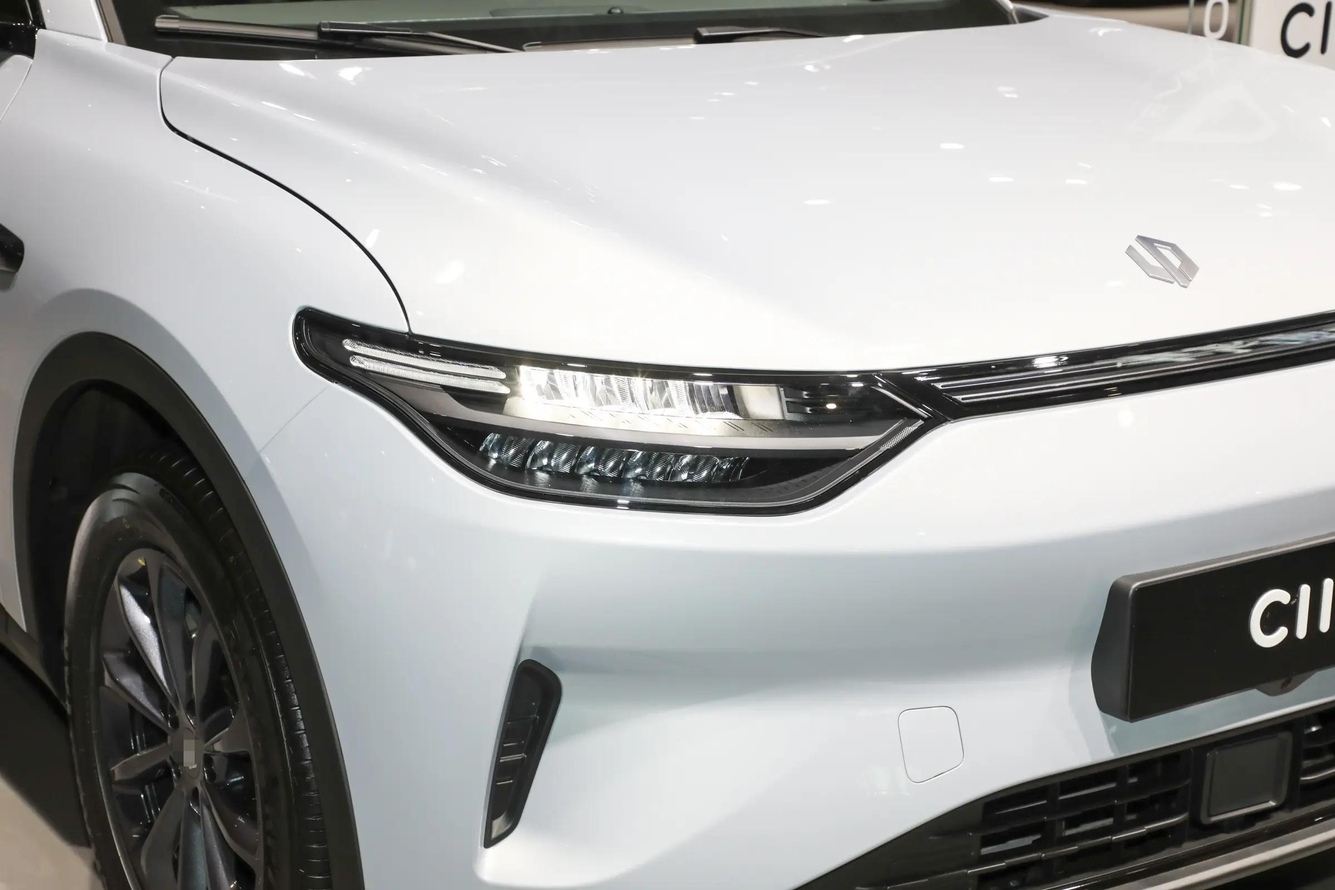LEAPMOTOR: (1124, 235, 1200, 290)
